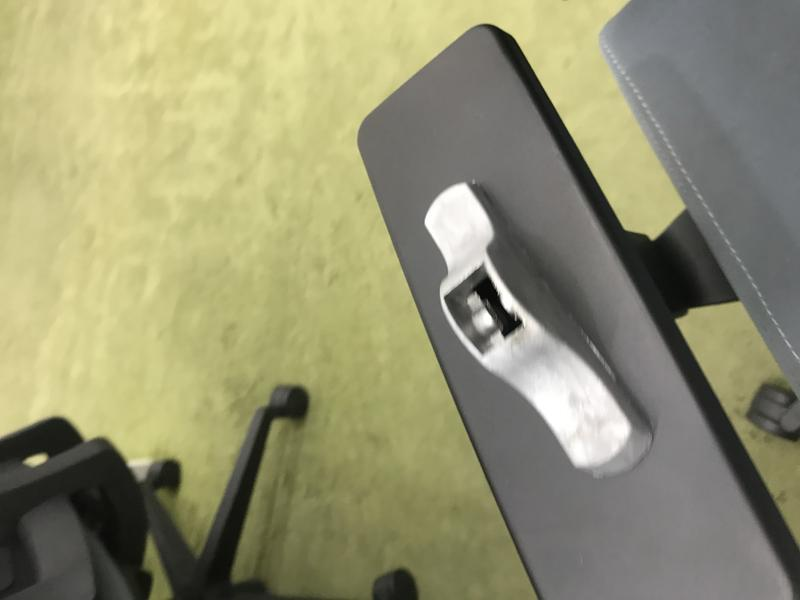zapchast: (416, 169, 662, 500)
